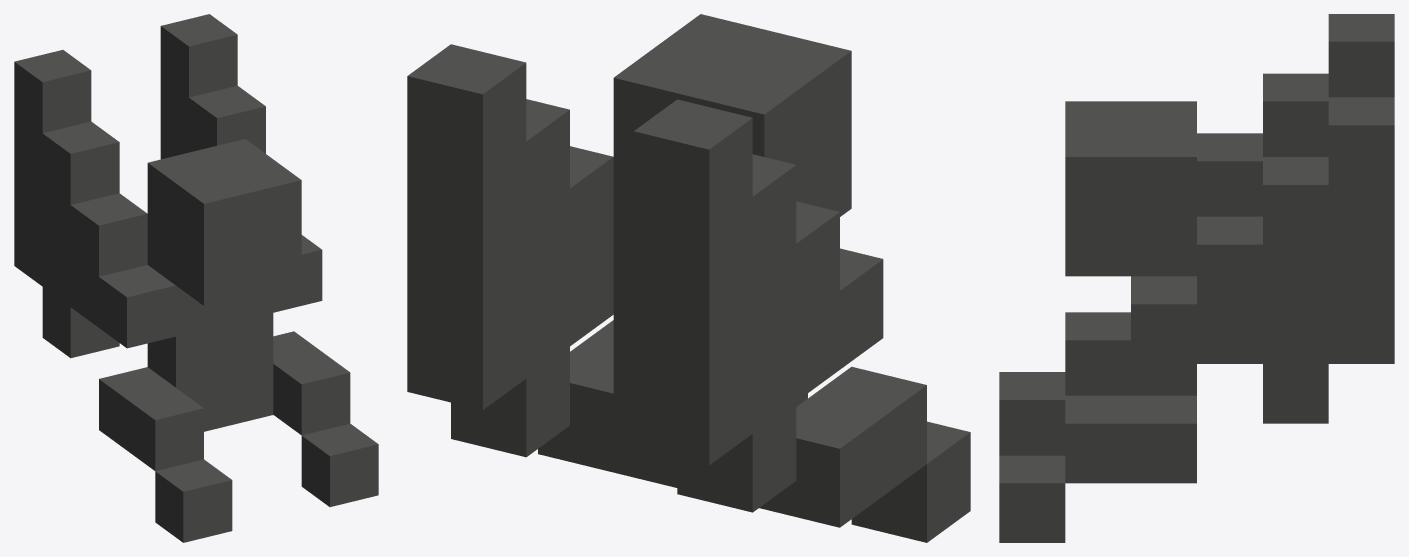
Rendered from church-79-gargoyle.obj.
3 views of the same model, side by side, from view 1: azimuth 30°, elevation 25°; view 2: azimuth 150°, elevation 25°; view 3: azimuth 270°, elevation 25° (orthographic). The views are drawn at different scales.
Visible parts, largest first — view 1: gargoyle; view 2: gargoyle; view 3: gargoyle.
Boxes of the visible parts, x1,y1,x2,y2 form: gargoyle: [14, 14, 378, 542]; gargoyle: [407, 14, 970, 542]; gargoyle: [999, 14, 1394, 542].
Bounding box in the file's own units: 0.4 × 0.7 × 0.6.
Materials: 1 (1 with a texture image).
